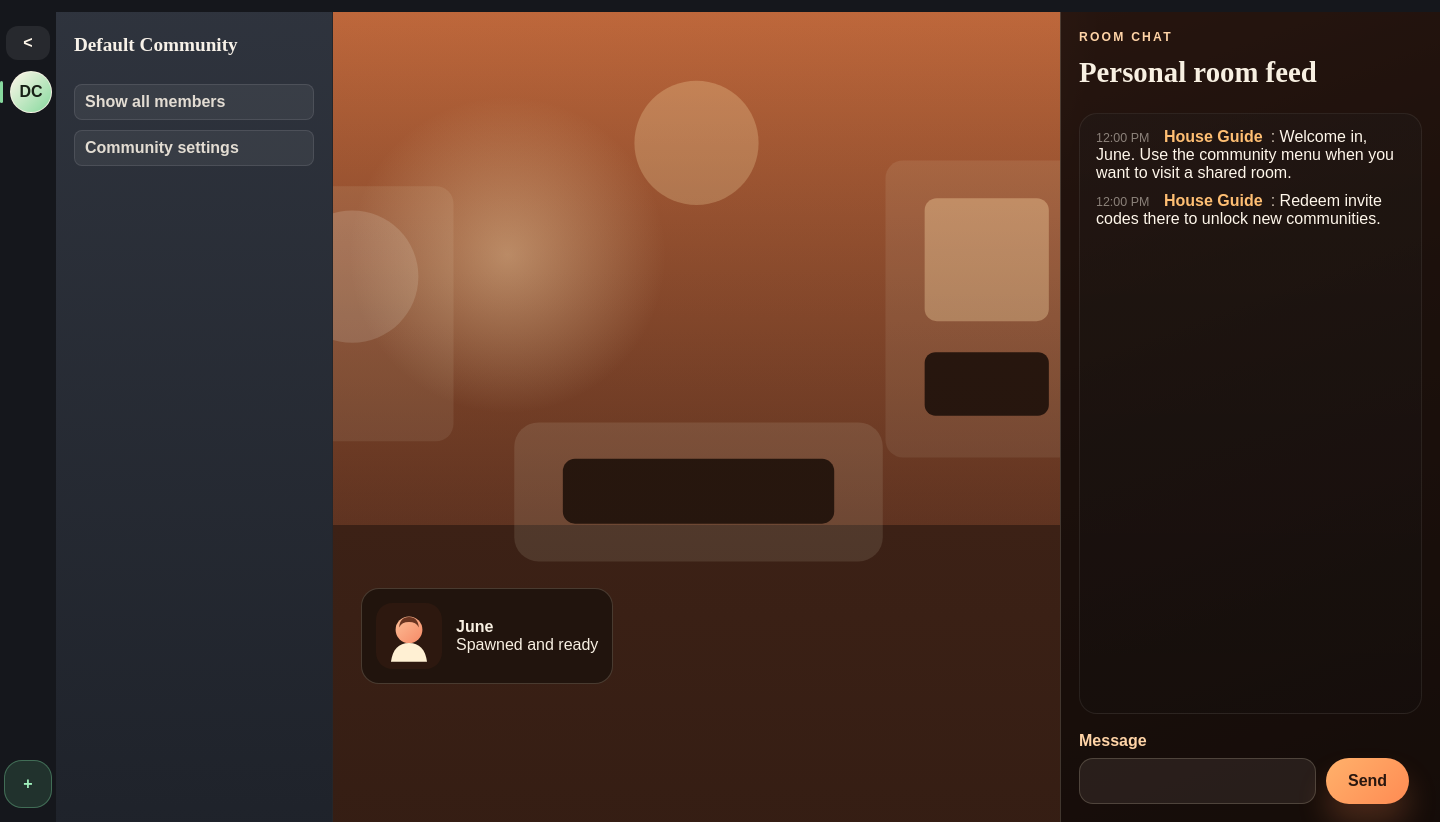
Test: LobbyView › keeps the member list separate from owner settings
The width and height of the screenshot is (1440, 822).
Click the button "Show all members": (194, 102) [74,84,314,120]
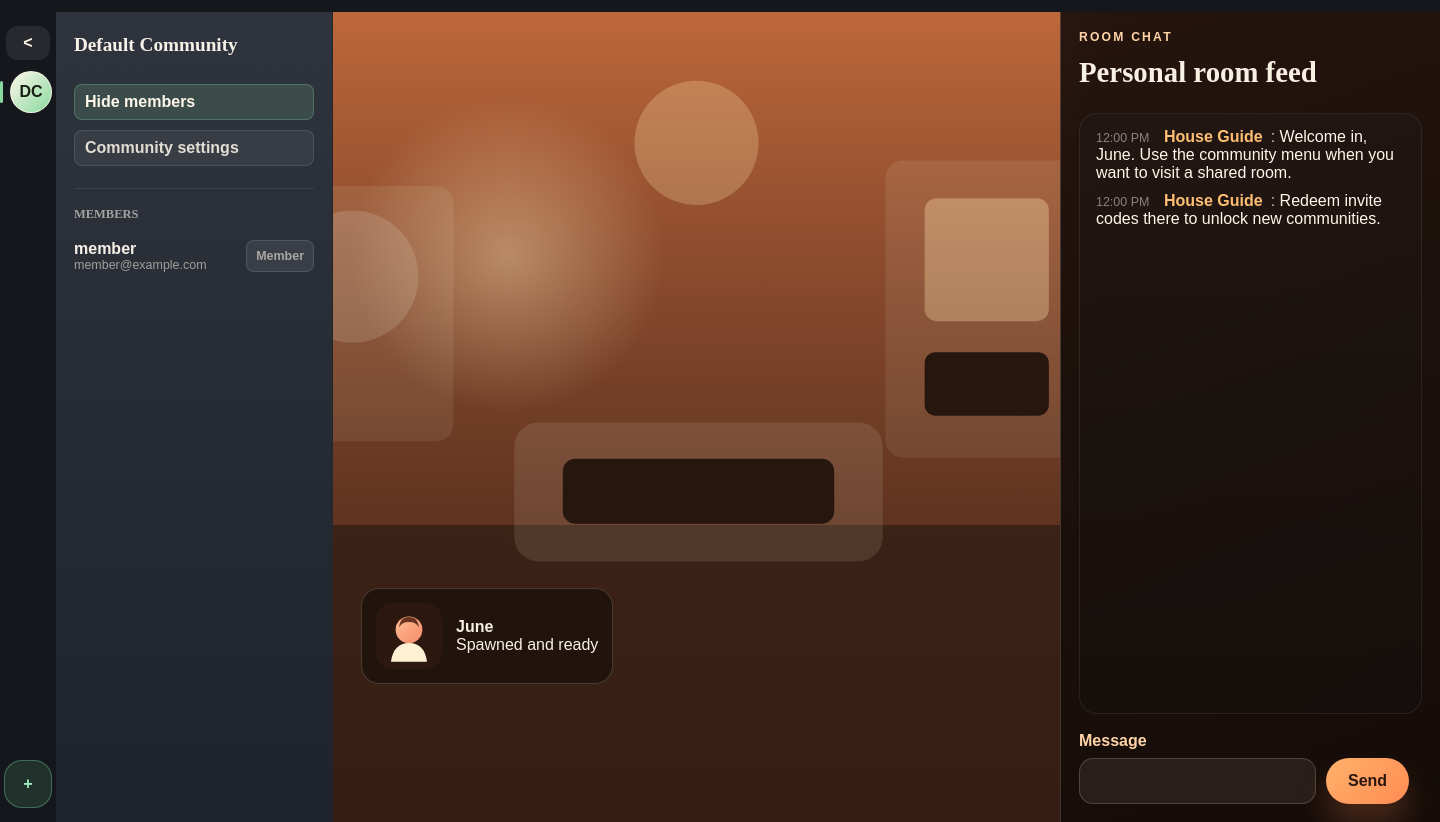
Expected: the button "Make admin" is not shown
Expected: the element named "Default Community members" is shown, [74,188,314,272]
Click the button "Community settings": (194, 148) [74,130,314,166]
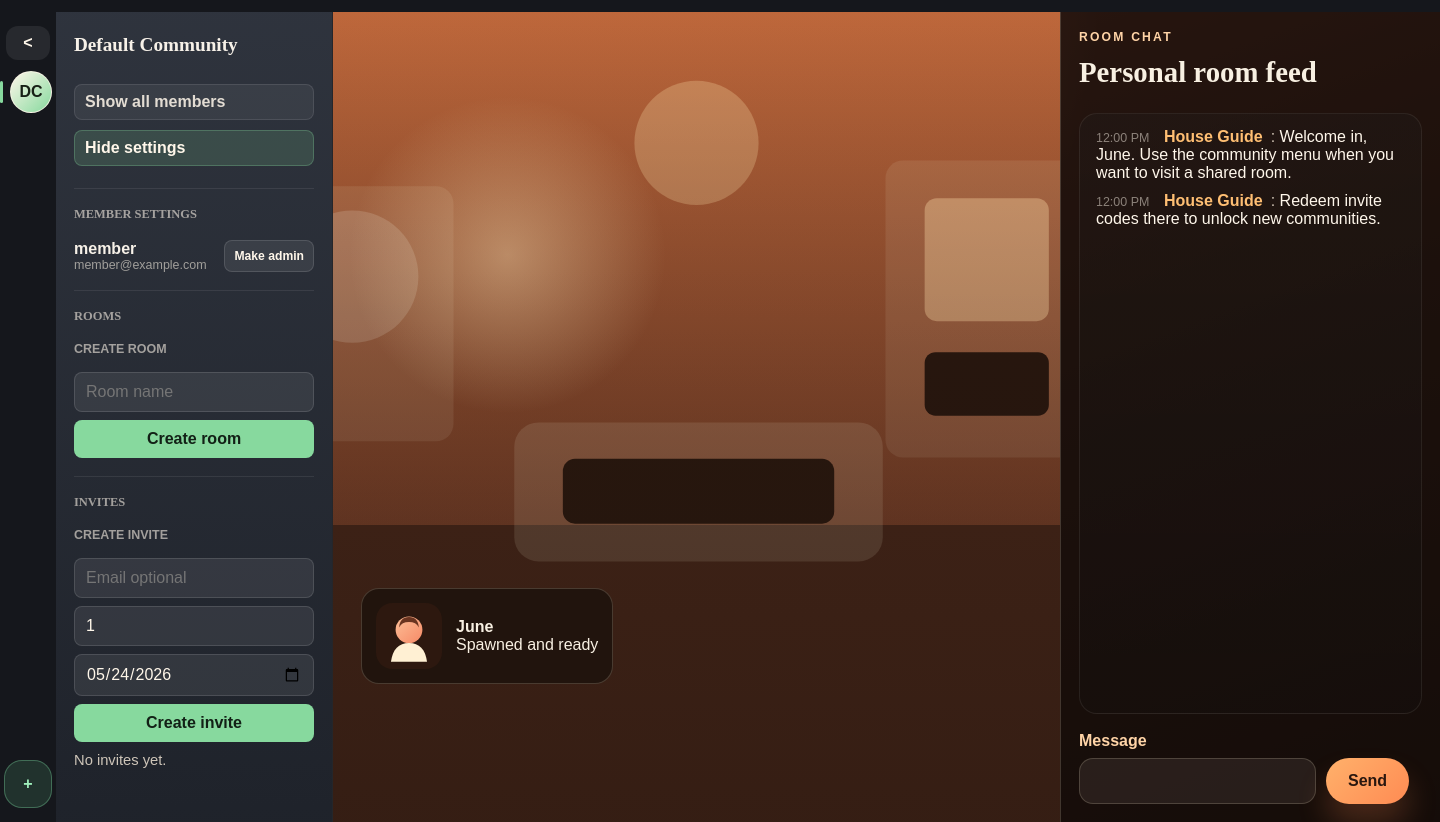
Expected: the element named "Default Community settings" is shown, [74,188,314,783]
Expected: the button "Make admin" is shown, [224,240,314,272]
